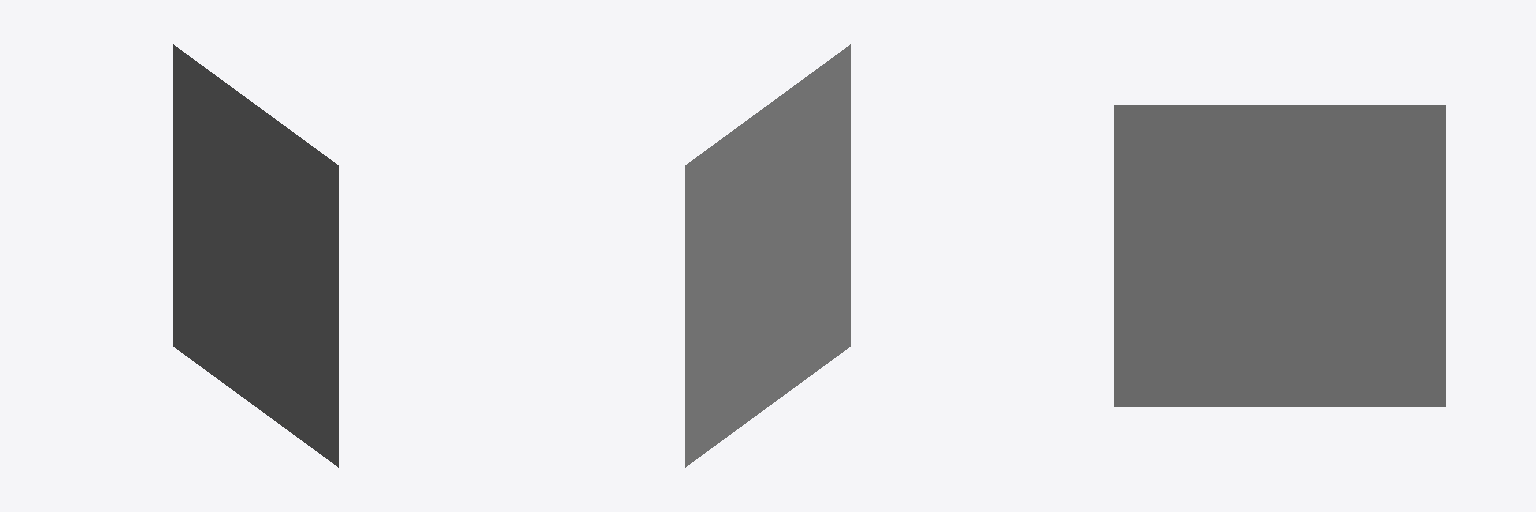
Rendered from negx.obj.
3 renders of one model, left to right at view 1: azimuth 30°, elevation 25°; view 2: azimuth 150°, elevation 25°; view 3: azimuth 270°, elevation 25°, orthographic.
Parts seen in each view (by area): view 1: Grid.003; view 2: Grid.003; view 3: Grid.003.
Part boxes in pixels (x1,y1,x2,y2): Grid.003: (173,44,338,467); Grid.003: (685,44,850,467); Grid.003: (1114,105,1445,406).
Bounding box in the file's own units: 0 × 15.91 × 15.87.